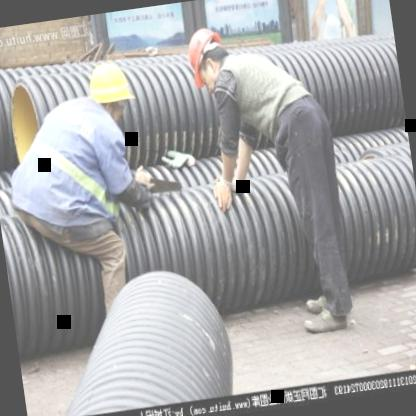helmet: (80, 56, 142, 134), (179, 22, 238, 94)
